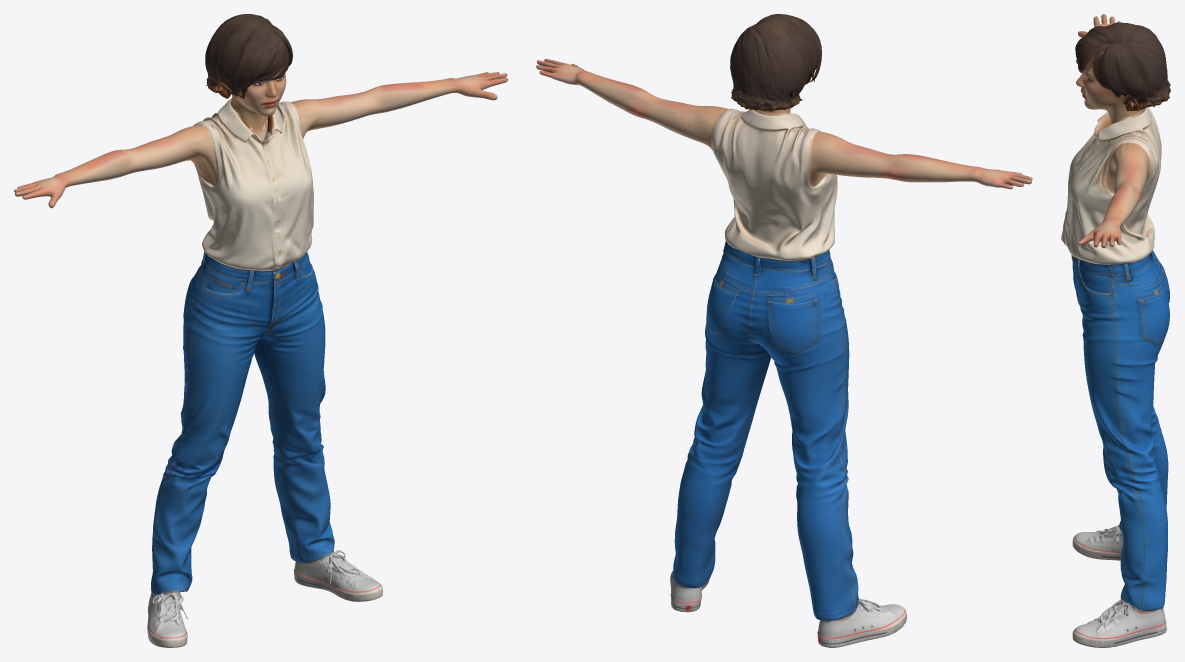
The model's file is T_Pose_on_Green_Backg_0124090116_texture.fbx.
3 views of the same model, side by side, from view 1: azimuth 30°, elevation 25°; view 2: azimuth 150°, elevation 25°; view 3: azimuth 270°, elevation 25° (orthographic). The views are drawn at different scales.
Visible parts, largest first — view 1: Mesh_0; view 2: Mesh_0; view 3: Mesh_0.
Boxes of the visible parts, x1=… form: Mesh_0: x1=14, y1=14, x2=507, y2=647; Mesh_0: x1=536, y1=14, x2=1032, y2=647; Mesh_0: x1=1061, y1=14, x2=1170, y2=647.
Size of the model in its own units: 165 by 190 by 33.02.
1 material, 1 textured.
